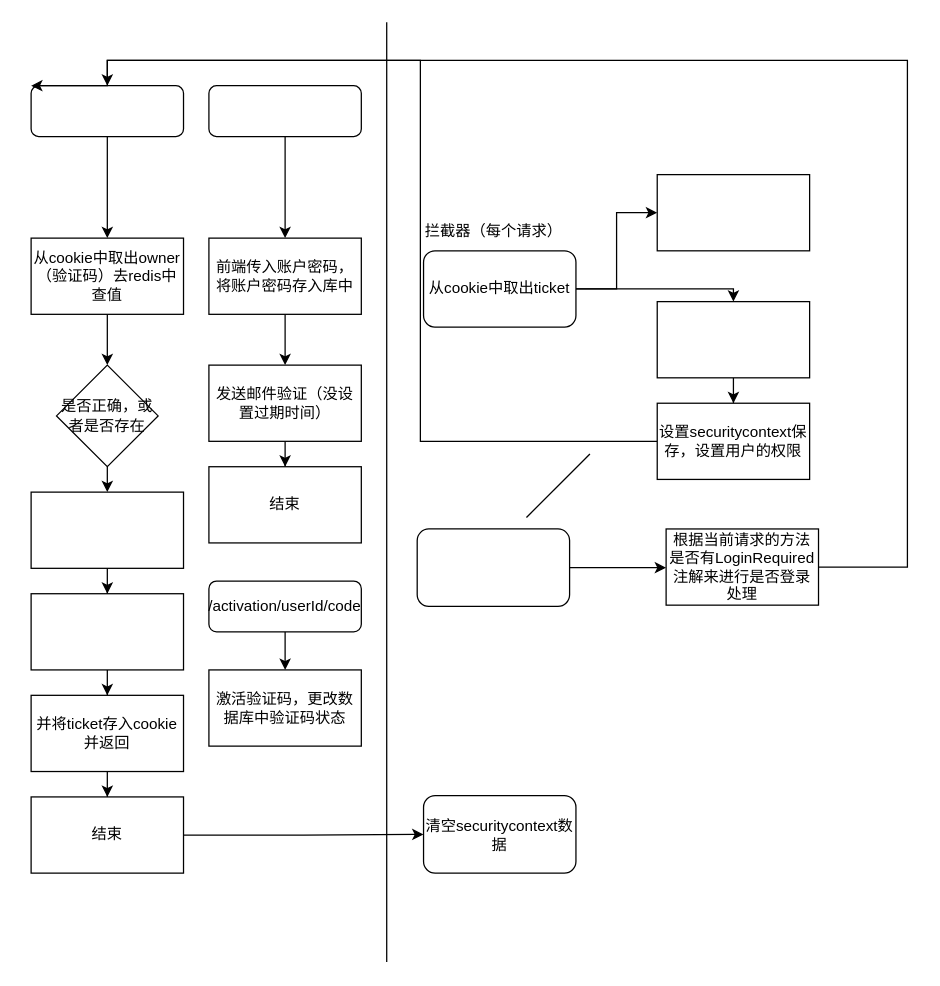
Some shapes in this 940 by 986 pixel diagram are drawn without their labels. The box of each missing label's shape, as (x1, y1, x2, y2) in pixels:
/login: (30, 84, 184, 137)
/register: (208, 84, 361, 137)
LoginRequired拦截: (416, 528, 570, 606)
为空返回true: (656, 173, 810, 251)
从redis中查，看是否对应，对应则将其存入hostHolder，用于保存用户状态: (656, 300, 810, 378)
根据账号，时间随机数生成登陆凭证，存到redisi当中（原本存入数据库）: (30, 592, 184, 670)
检查账号密码: (30, 491, 184, 568)
